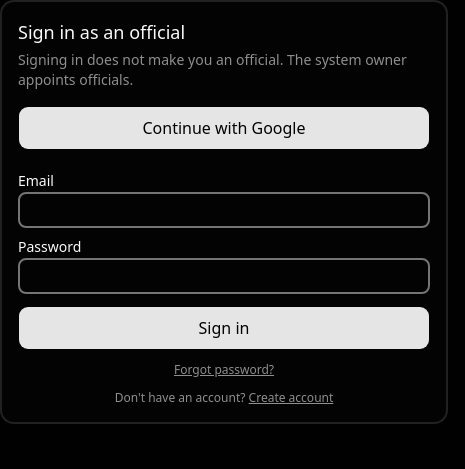
SignInPanel › shows an error result next to the control that produced it
Click the button "Continue with Google" at (224, 128), box x1=18 y1=106 x2=430 y2=150
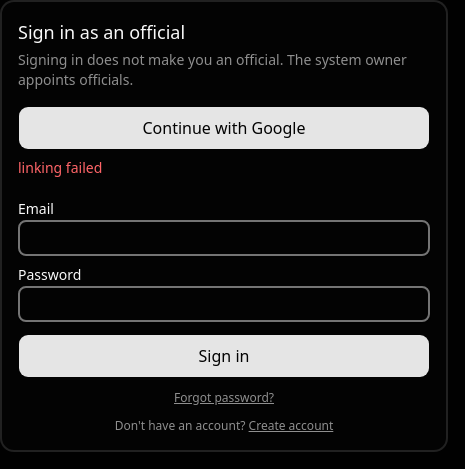
Result: the text "linking failed" is shown at x1=18 y1=158 x2=102 y2=177
